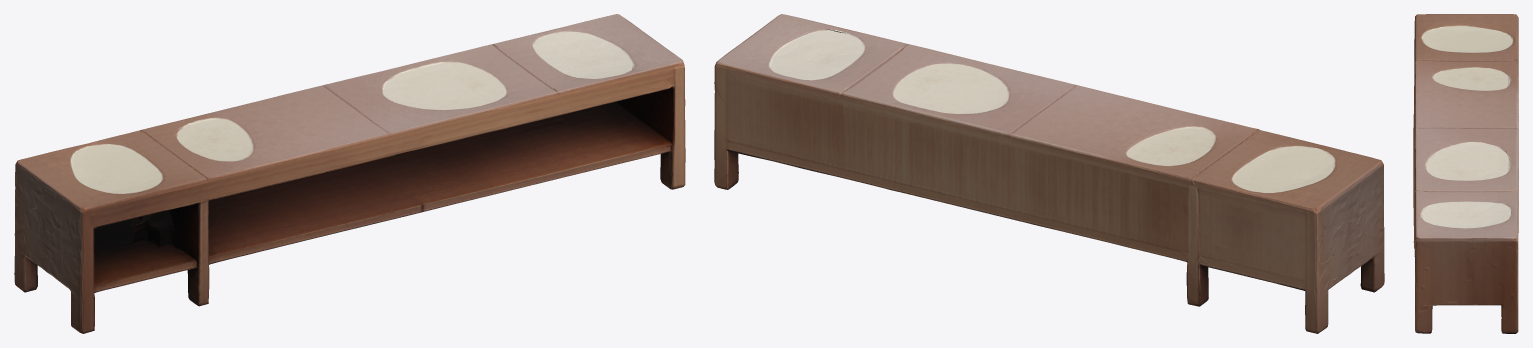
The picture shows the model from 3 angles, left to right: view 1: azimuth 30°, elevation 25°; view 2: azimuth 150°, elevation 25°; view 3: azimuth 270°, elevation 25°; orthographic projection. The views are drawn at different scales.
Parts seen in each view (by area): view 1: world; view 2: world; view 3: world.
Boxes of the visible parts, x1=… form: world: x1=14, y1=14, x2=685, y2=333; world: x1=714, y1=14, x2=1384, y2=333; world: x1=1413, y1=14, x2=1518, y2=333.
Bounding box in the file's own units: 1 × 0.2021 × 0.198.
Materials: 1 (1 with a texture image).
